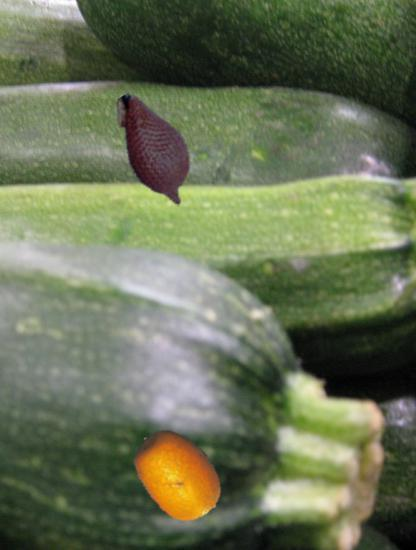Kumquats: (128, 426, 227, 525)
Salak: (93, 87, 218, 212)
